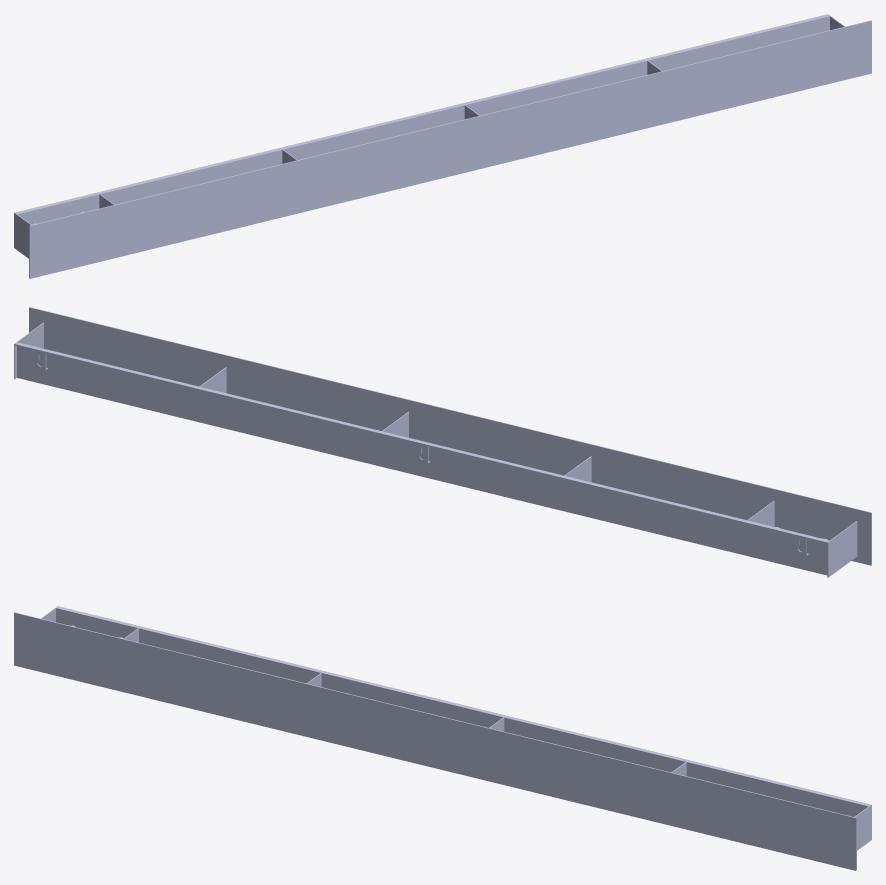
Rendered from skyline-patron.3f0924541f.glb.
3 renders of one model, top to bottom at view 1: azimuth 30°, elevation 25°; view 2: azimuth 150°, elevation 25°; view 3: azimuth 330°, elevation 25°, orthographic.
Parts seen in each view (by area): view 1: NAUO1; view 2: NAUO1; view 3: NAUO1.
Boxes of the visible parts, x1,y1,x2,y2 form: NAUO1: (14,14,871,278); NAUO1: (14,307,871,577); NAUO1: (14,606,871,870).
Bounding box in the file's own units: 1.5 × 0.0899 × 0.0919.
